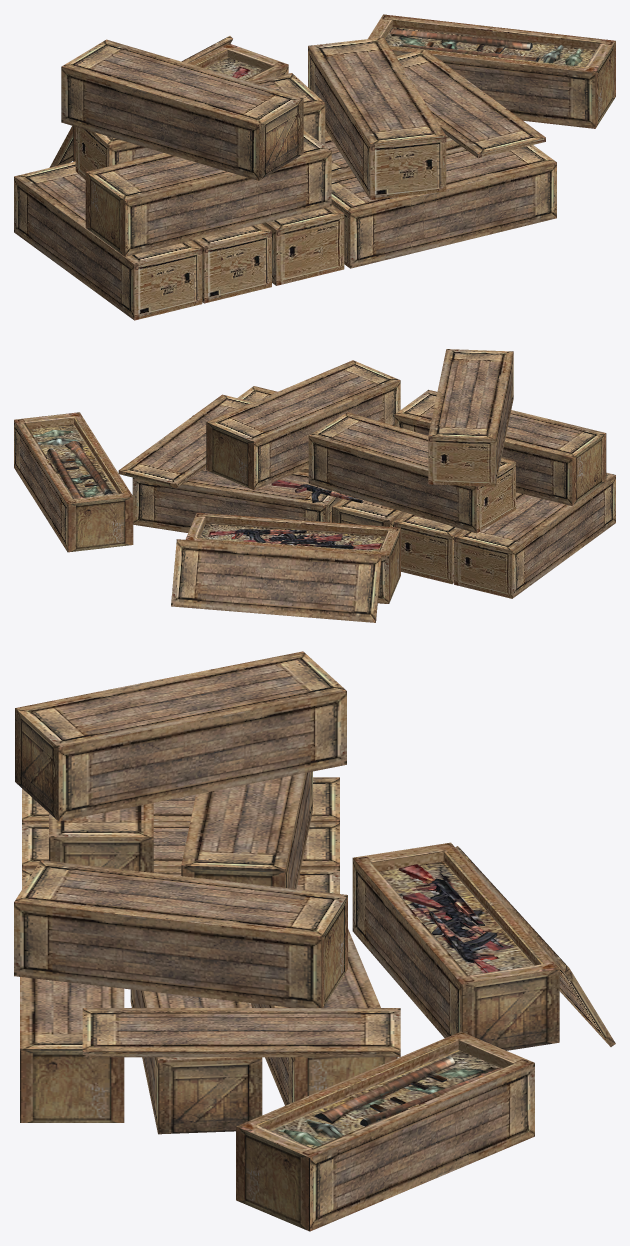
The model's file is WpnCt6.glb.
The picture shows the model from 3 angles, top to bottom: view 1: azimuth 30°, elevation 25°; view 2: azimuth 150°, elevation 25°; view 3: azimuth 270°, elevation 25°; orthographic projection. The views are drawn at different scales.
Visible parts, largest first — view 1: _WpnCt6; view 2: _WpnCt6; view 3: _WpnCt6.
Boxes of the visible parts, x1,y1,x2,y2 form: _WpnCt6: [14, 14, 615, 320]; _WpnCt6: [14, 349, 615, 622]; _WpnCt6: [14, 651, 615, 1231].
Size of the model in its own units: 5.52 by 1.57 by 3.69.
1 material, 1 textured.
